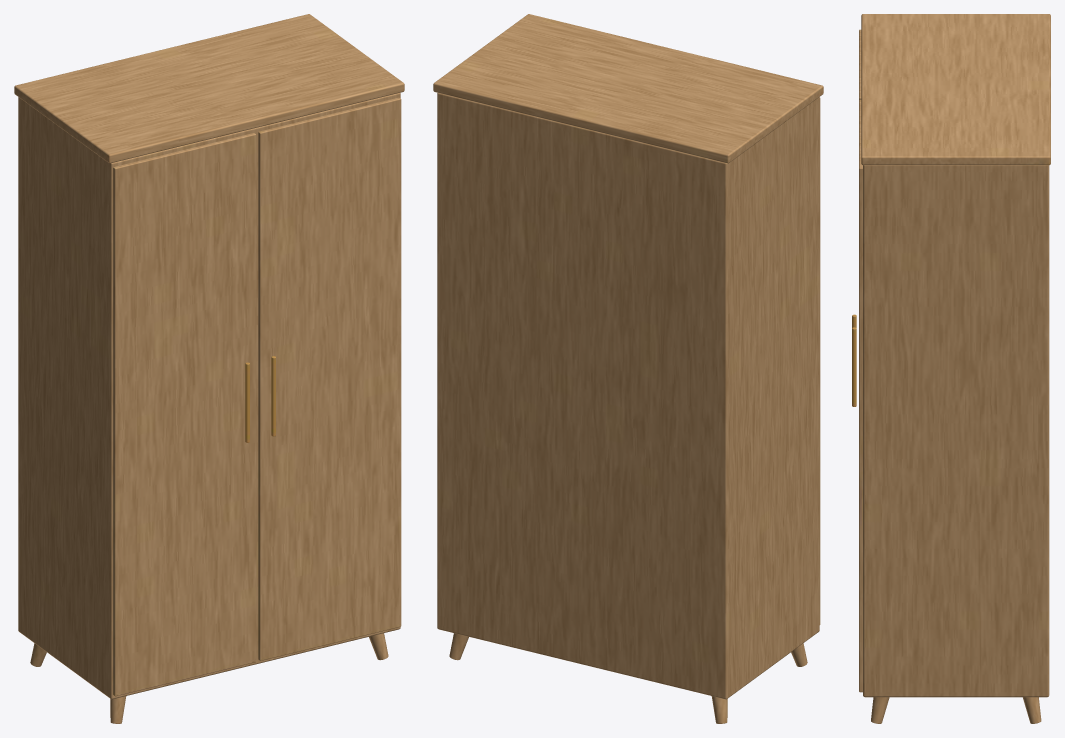
Rendered from wardrobe.glb.
3 views of the same model, side by side, from view 1: azimuth 30°, elevation 25°; view 2: azimuth 150°, elevation 25°; view 3: azimuth 270°, elevation 25° (orthographic).
Visible parts, largest first — view 1: Cube; view 2: Cube; view 3: Cube.
Boxes of the visible parts, box(x1,y1,x2,y2) form: Cube: box(14, 14, 404, 723); Cube: box(433, 14, 823, 723); Cube: box(852, 14, 1050, 723).
Size of the model in its own units: 1.02 by 1.9 by 0.598.
1 material, 1 textured.
